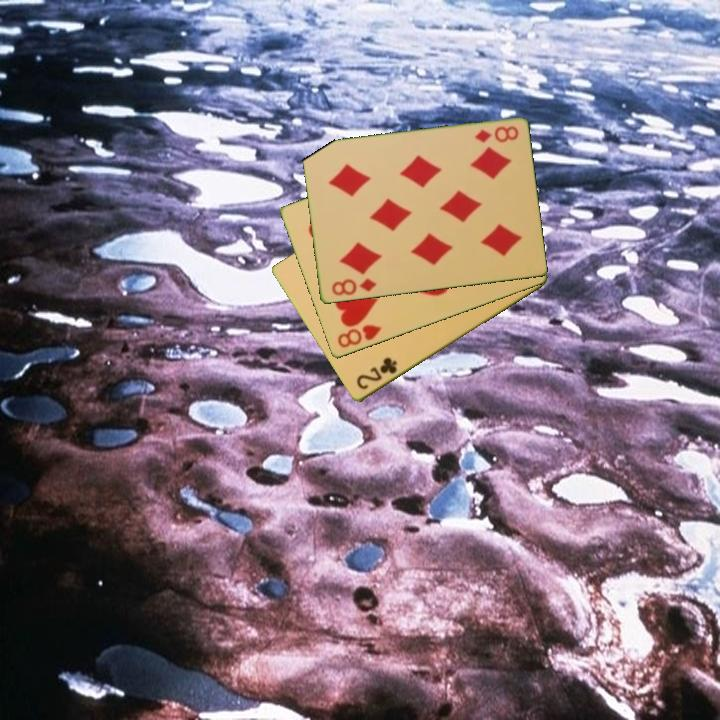2c: (353, 354, 400, 393)
8d: (328, 275, 379, 299), (471, 123, 521, 146)
8h: (334, 321, 385, 351)
